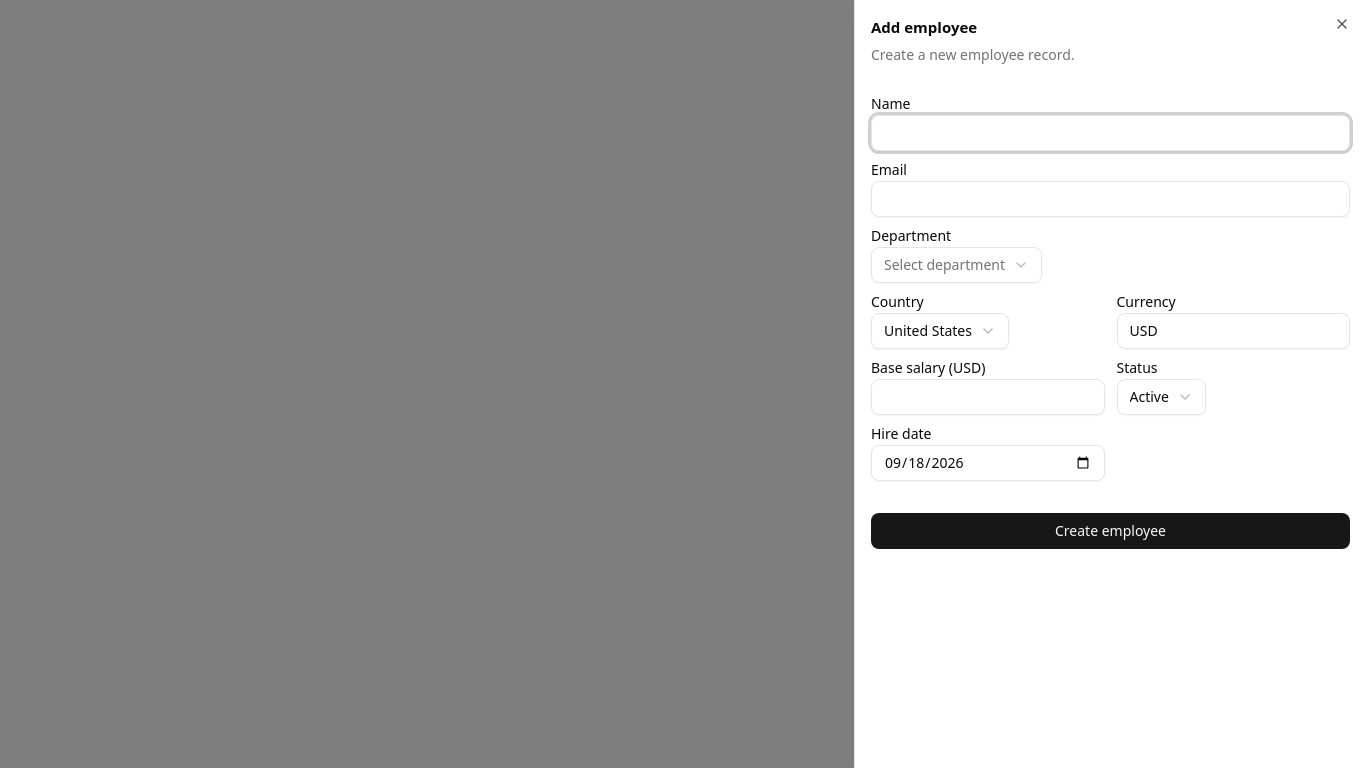
Test: EmployeeFormSheet › shows field errors returned by the API without closing the sheet
Type "Dup" into the field labelled "Name" at (1110, 132), box [871, 114, 1350, 150]
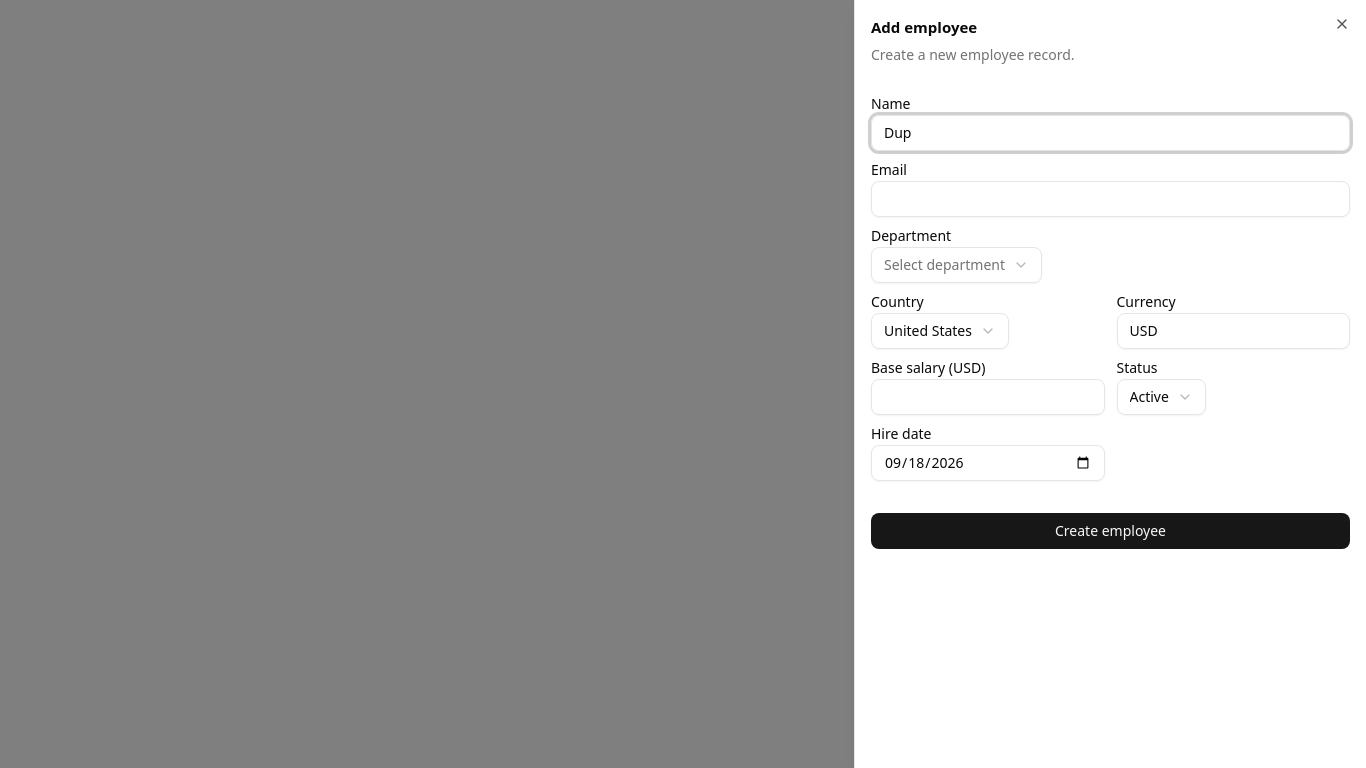
Type "dup@example.com" into the field labelled "Email" at (1110, 198), box [871, 180, 1350, 216]
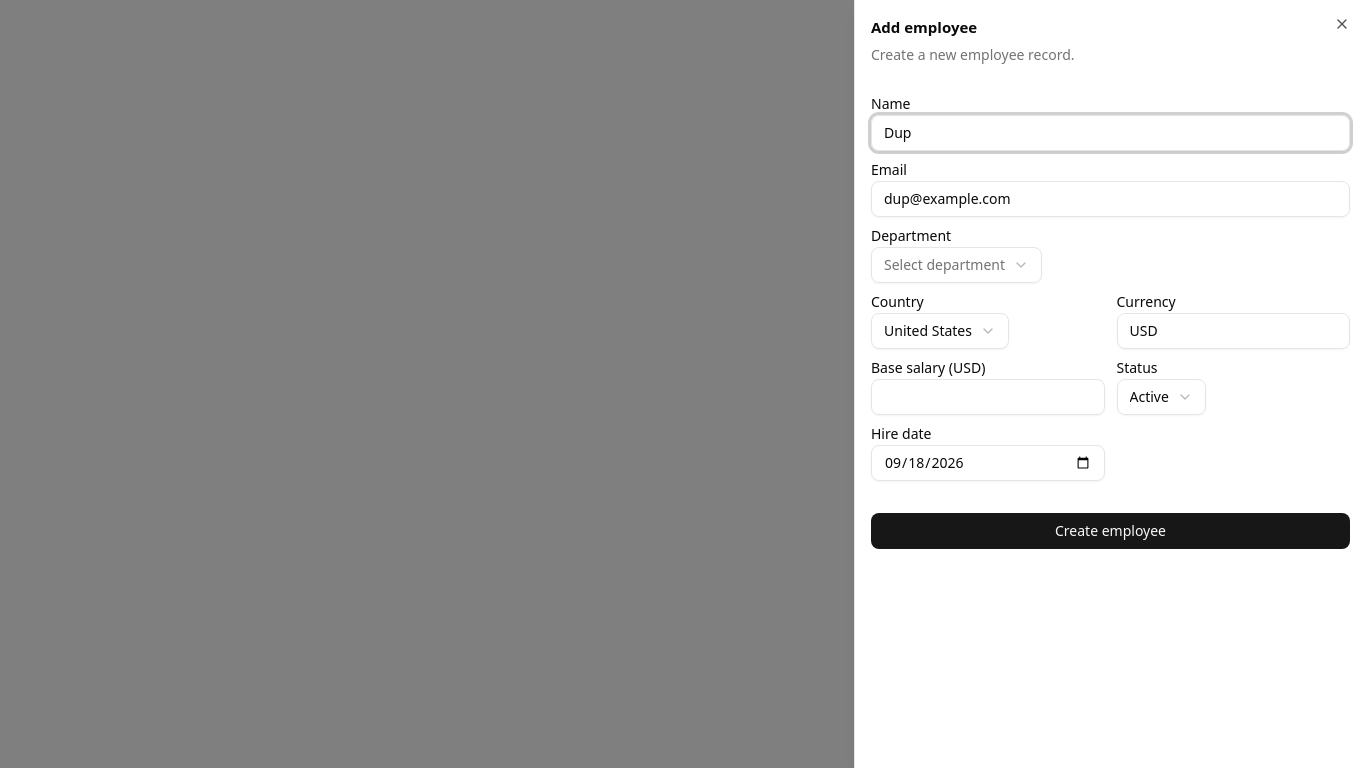
Type "50000" into the number field labelled "Base salary (USD)" at (988, 396), box [871, 378, 1104, 414]
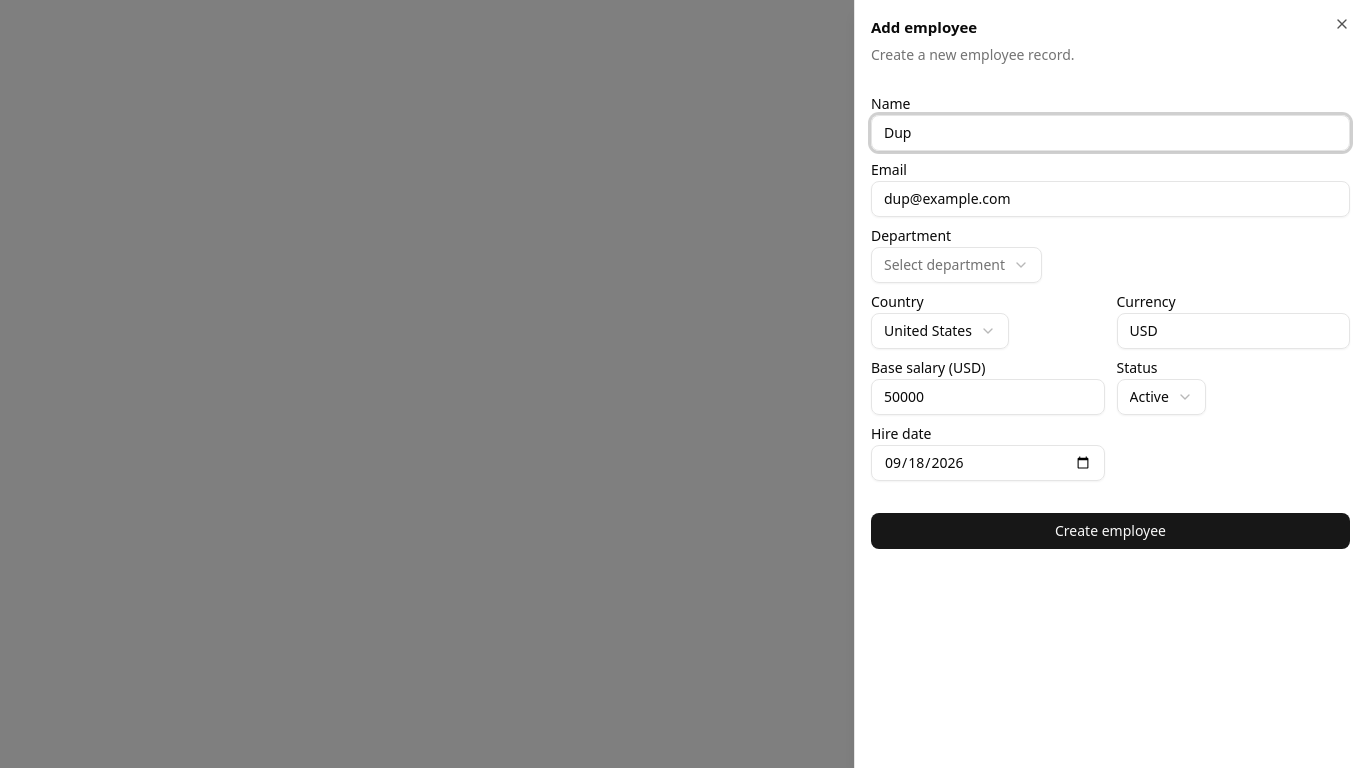
Click the button "Create employee" at (1110, 530), box [871, 512, 1350, 548]
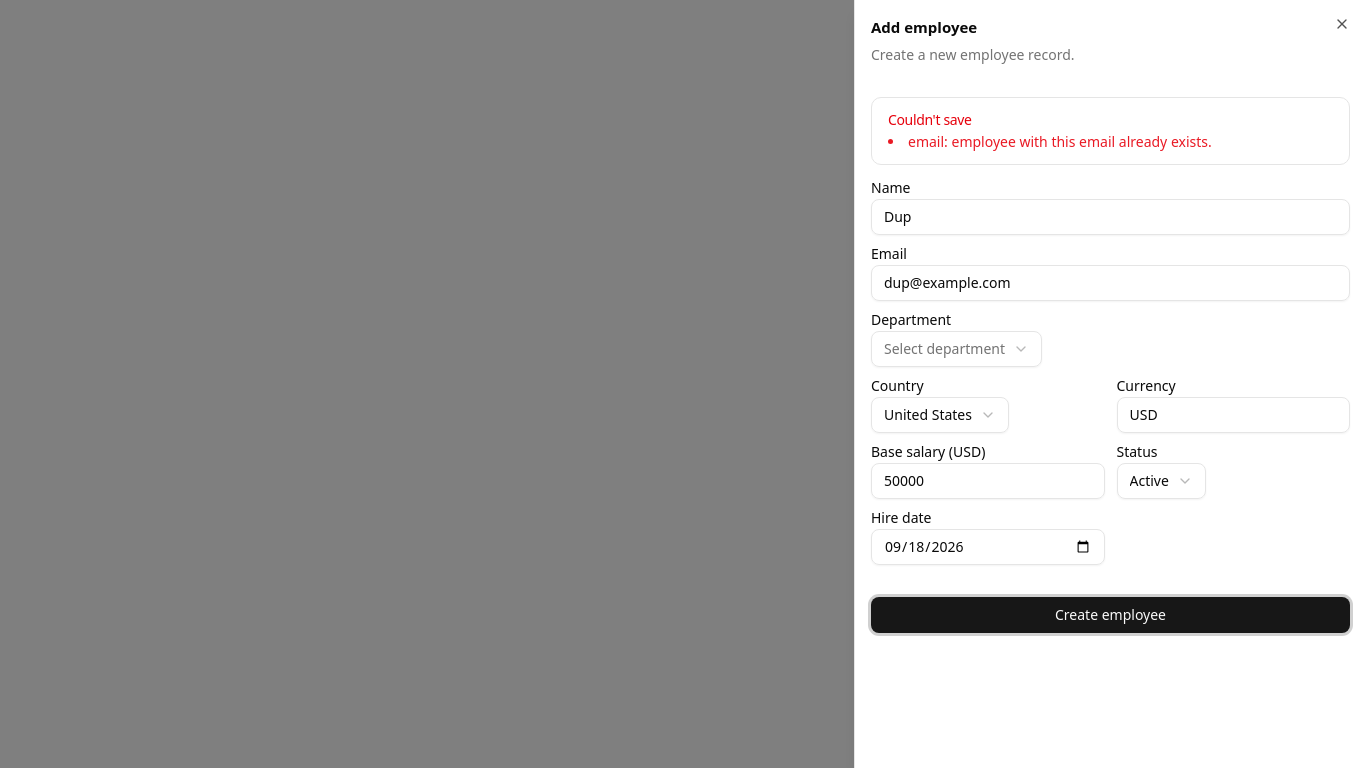
Expected: the list item "email: employee with this email already exists." is shown, [888, 132, 1212, 152]
